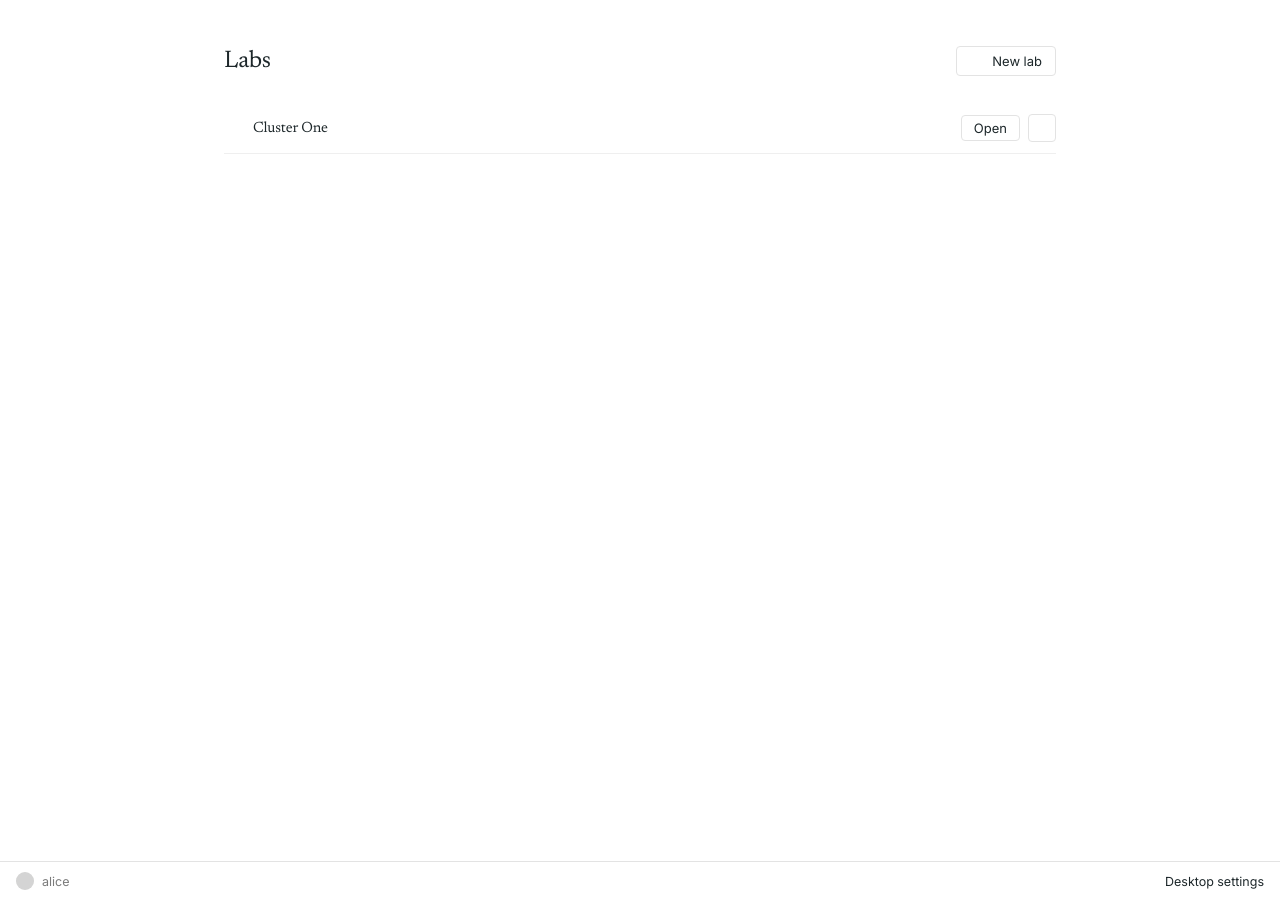
Test: Stop Lab [§4.5 row menu, §4.7 stopLab] › lab.down rejecting marks the row failed (STOP_FAILED)
The width and height of the screenshot is (1280, 900).
Check: the text "Cluster One" is shown, box left=253, top=120, right=328, bottom=136
Click the button named "More actions". click: (1042, 128)
box: left=1028, top=114, right=1056, bottom=142
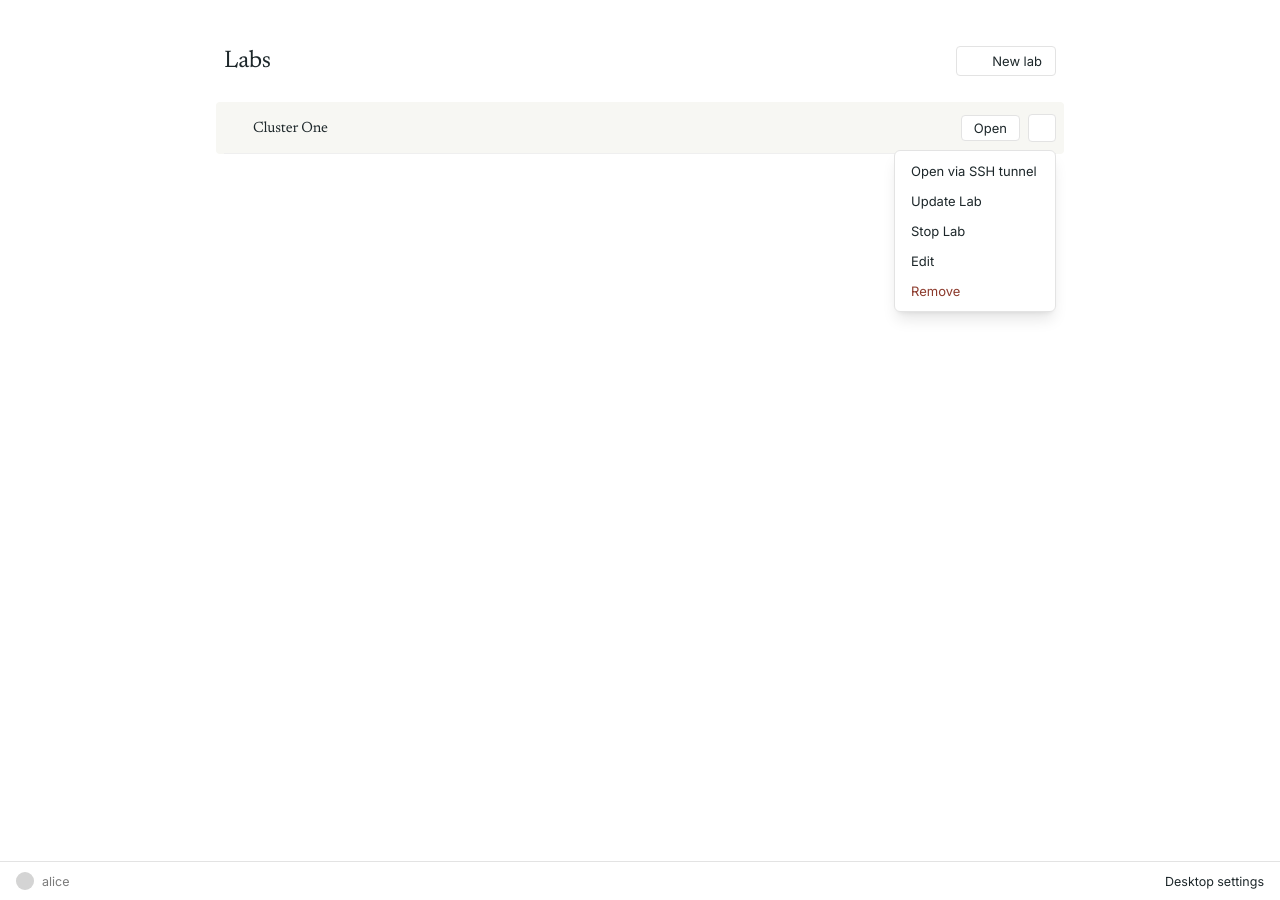
Click the menu item "Stop Lab". click: (975, 231)
box: left=900, top=216, right=1050, bottom=246
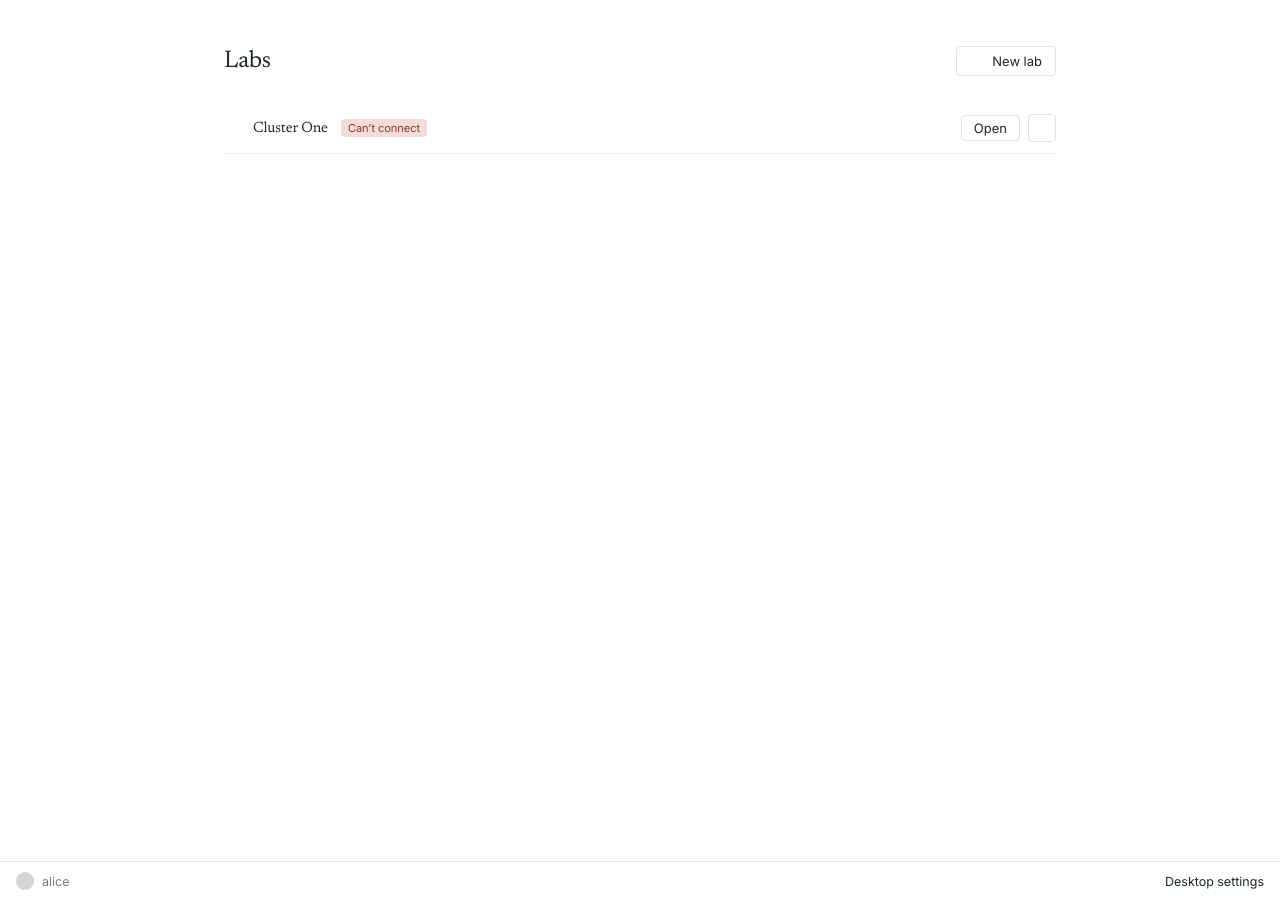
Check: the text "Can’t connect" is shown, box left=341, top=119, right=427, bottom=137
// Still live (stop didn't take), so the menu offers Stop again.
Click the button named "More actions". click: (1042, 128)
box: left=1028, top=114, right=1056, bottom=142
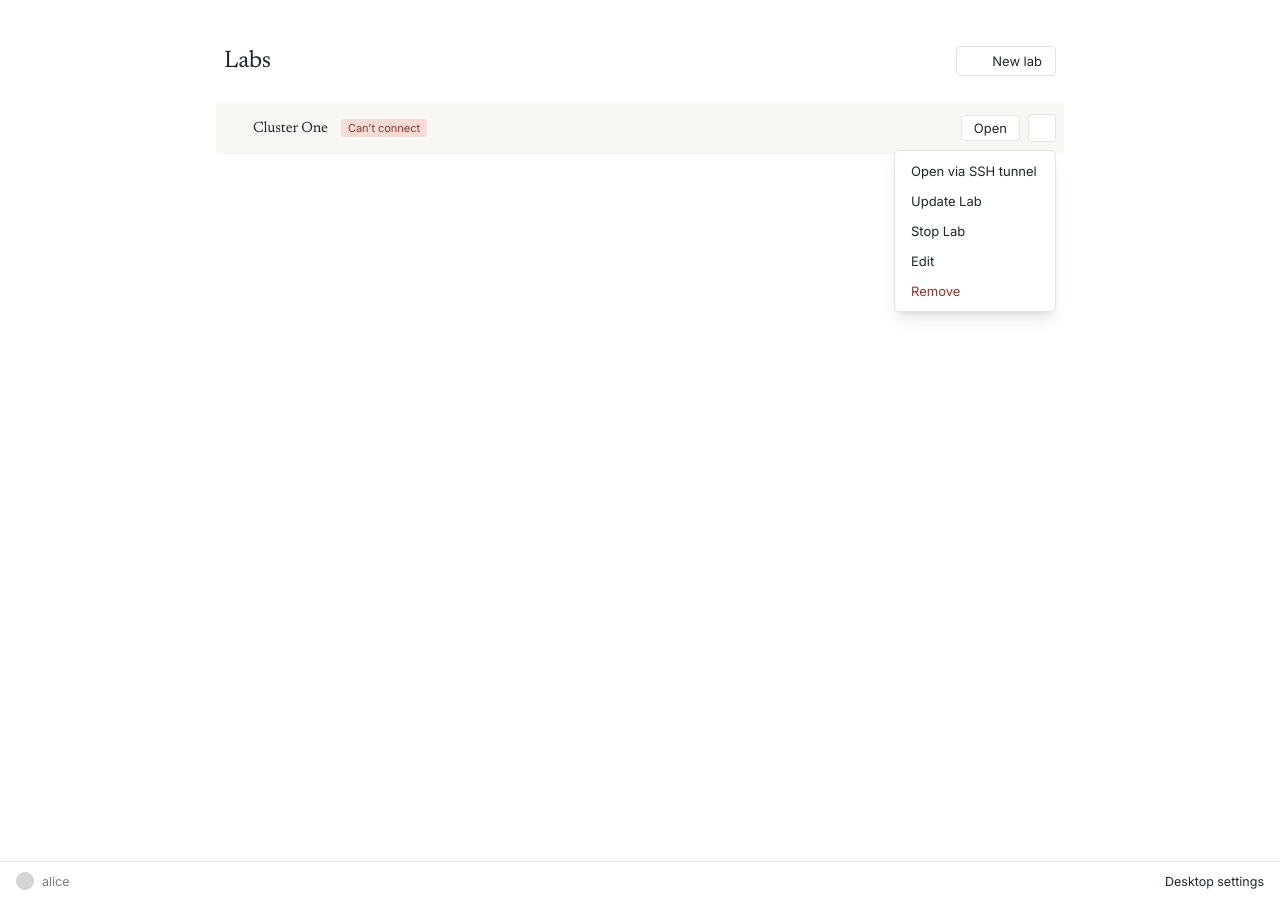
Check: the menu item "Stop Lab" is shown, box left=900, top=216, right=1050, bottom=246
